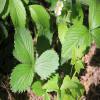Strawberry leaf: (61, 24, 92, 58), (34, 46, 60, 81), (8, 63, 35, 93), (14, 26, 34, 63), (9, 0, 26, 29)
